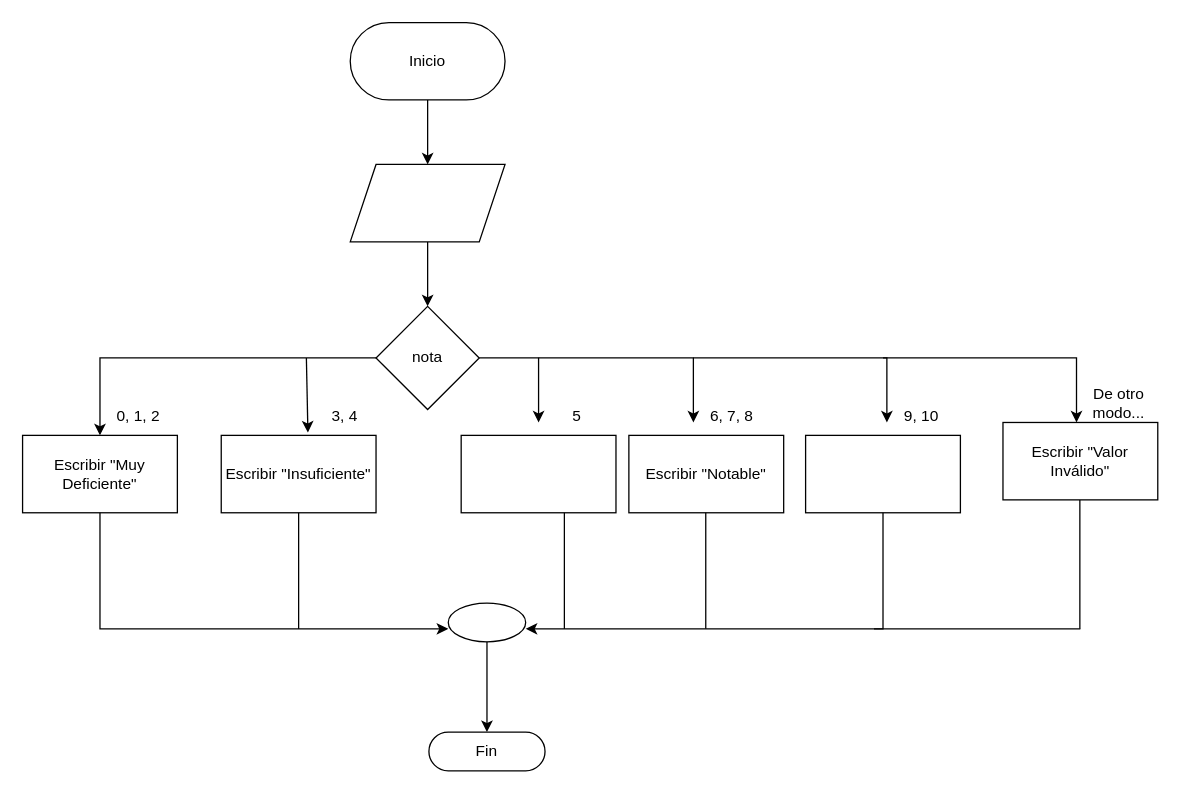
Image size: 1180x793. Some labels were removed from this diagram. The centre of each missing label's shape, as x and y in pixels:
Escribir "Bien": (538,473)
Escribir "Sobresaliente": (882,473)
Leer nota: (427,202)
